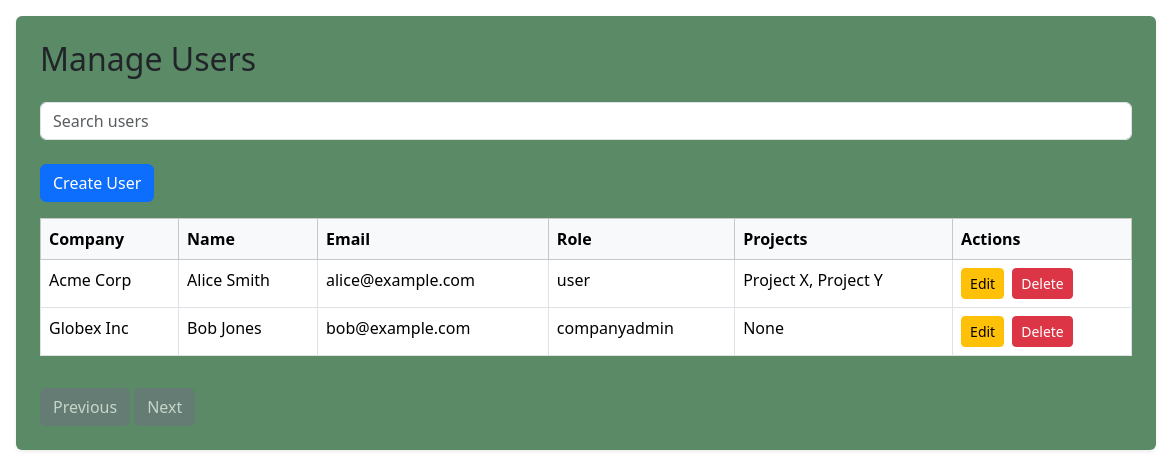
Test: ManageUsers Page › filters the list by search term
This screenshot has width=1173, height=469.
Expected: the text "Alice Smith" is shown, [179, 260, 318, 308]
In the field with placeholder "Search users": (586, 121) [40, 102, 1132, 140], type "bob"
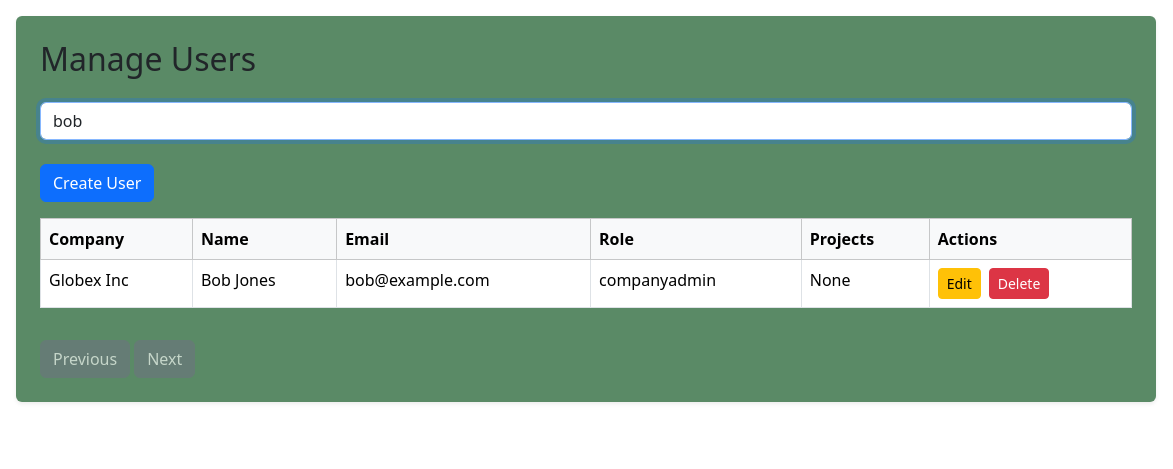
Expected: the text "Bob Jones" is shown, [192, 260, 337, 308]
Now the text "Alice Smith" is gone
